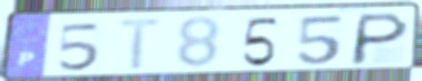5: (294, 13, 347, 67), (55, 20, 104, 72), (239, 15, 281, 68)
8: (173, 15, 227, 72)
P: (346, 10, 413, 67)
T: (115, 16, 169, 74)
